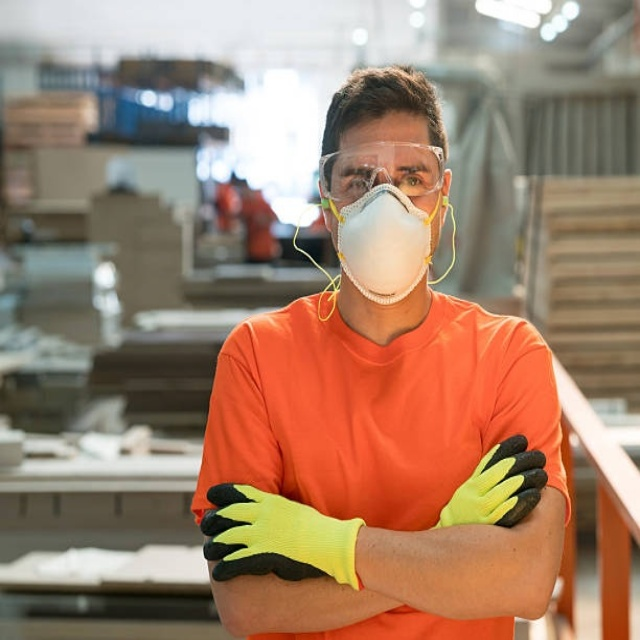Gafas: (318, 144, 447, 204)
Guantes: (201, 483, 365, 589), (428, 433, 548, 529)
Mascara: (334, 186, 433, 299)
